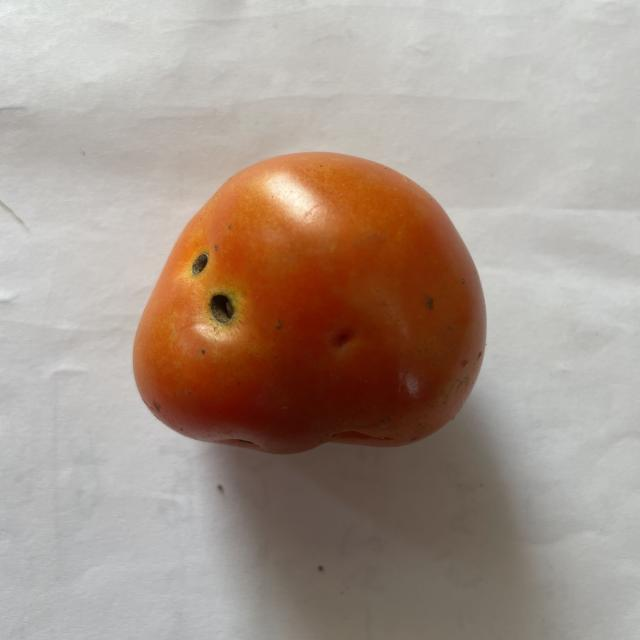fruitworm_bore: (188, 244, 238, 336)
